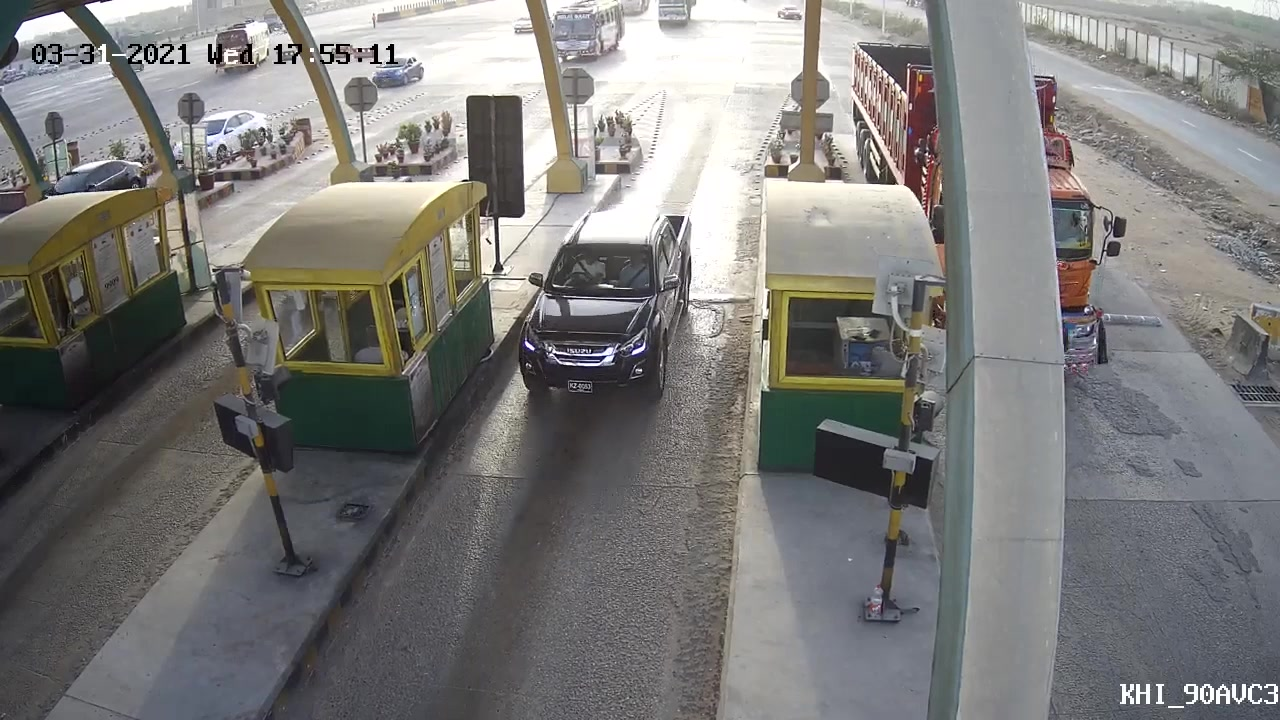F1: (506, 198, 698, 403)
